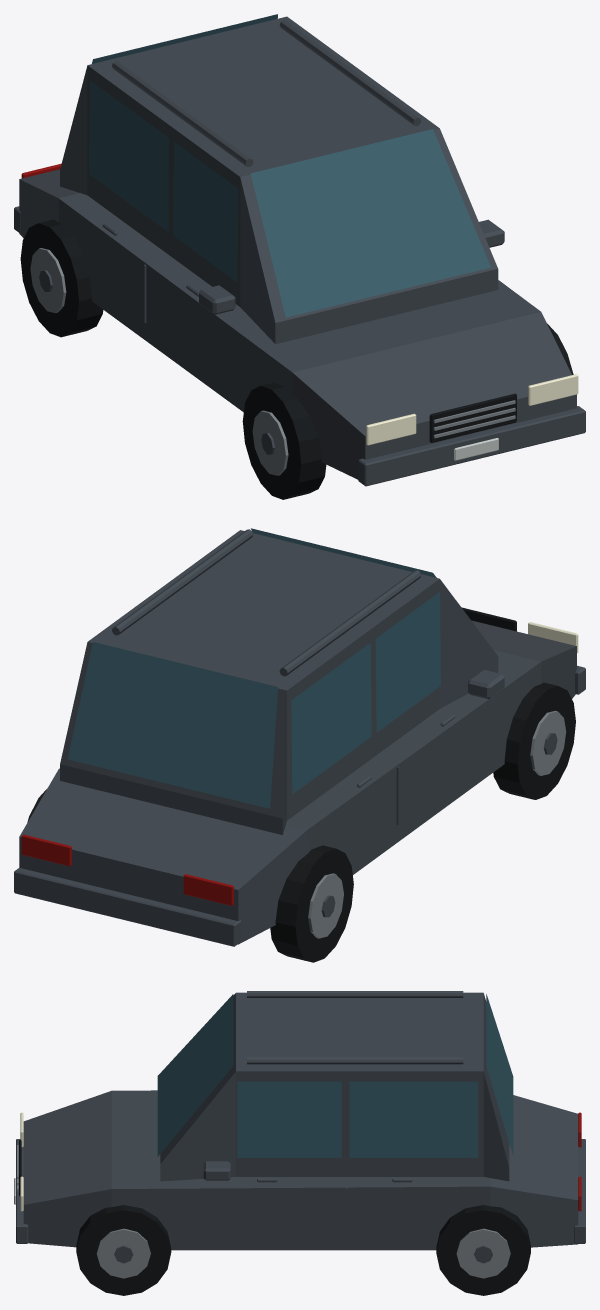
File: SUVGrey.fbx
3 renders of one model, top to bottom at view 1: azimuth 30°, elevation 25°; view 2: azimuth 150°, elevation 25°; view 3: azimuth 270°, elevation 25°, orthographic. The views are drawn at different scales.
Visible parts, largest first — view 1: SUVGrey; view 2: SUVGrey; view 3: SUVGrey.
Part boxes in pixels (x1,y1,x2,y2): SUVGrey: [14, 14, 585, 499]; SUVGrey: [14, 528, 585, 962]; SUVGrey: [14, 991, 585, 1295].
Size of the model in its own units: 202 by 177 by 423.
1 material, 1 textured.
